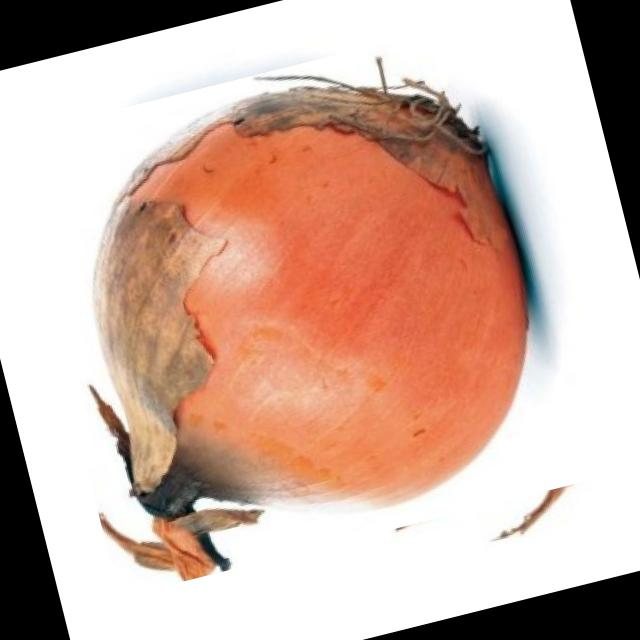Onion: (13, 1, 618, 606)
